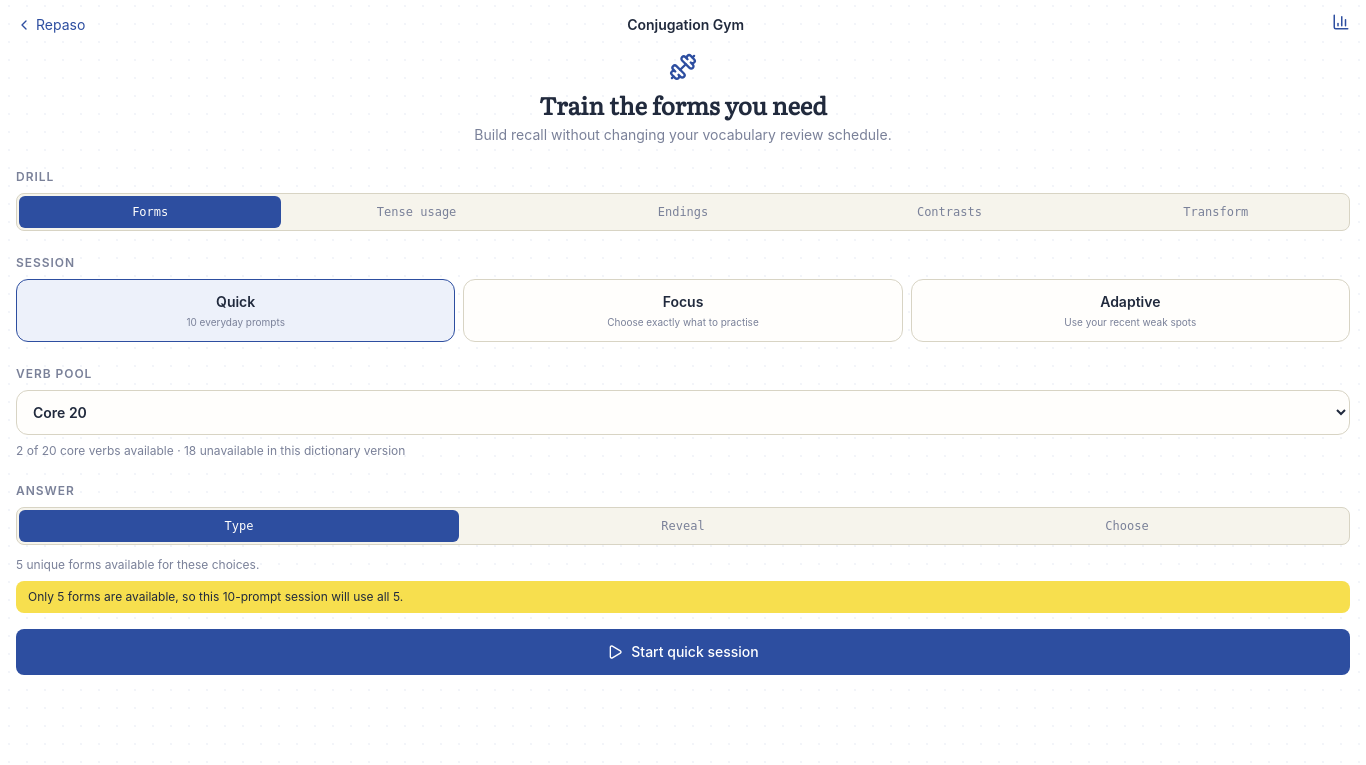
Scenario: Conjugation Gym setup › offers Choose beside Type and Reveal and starts a Quick session with four form chips
Click the radio button labelled "Choose" at (1127, 526), box x1=907 y1=510 x2=1347 y2=542
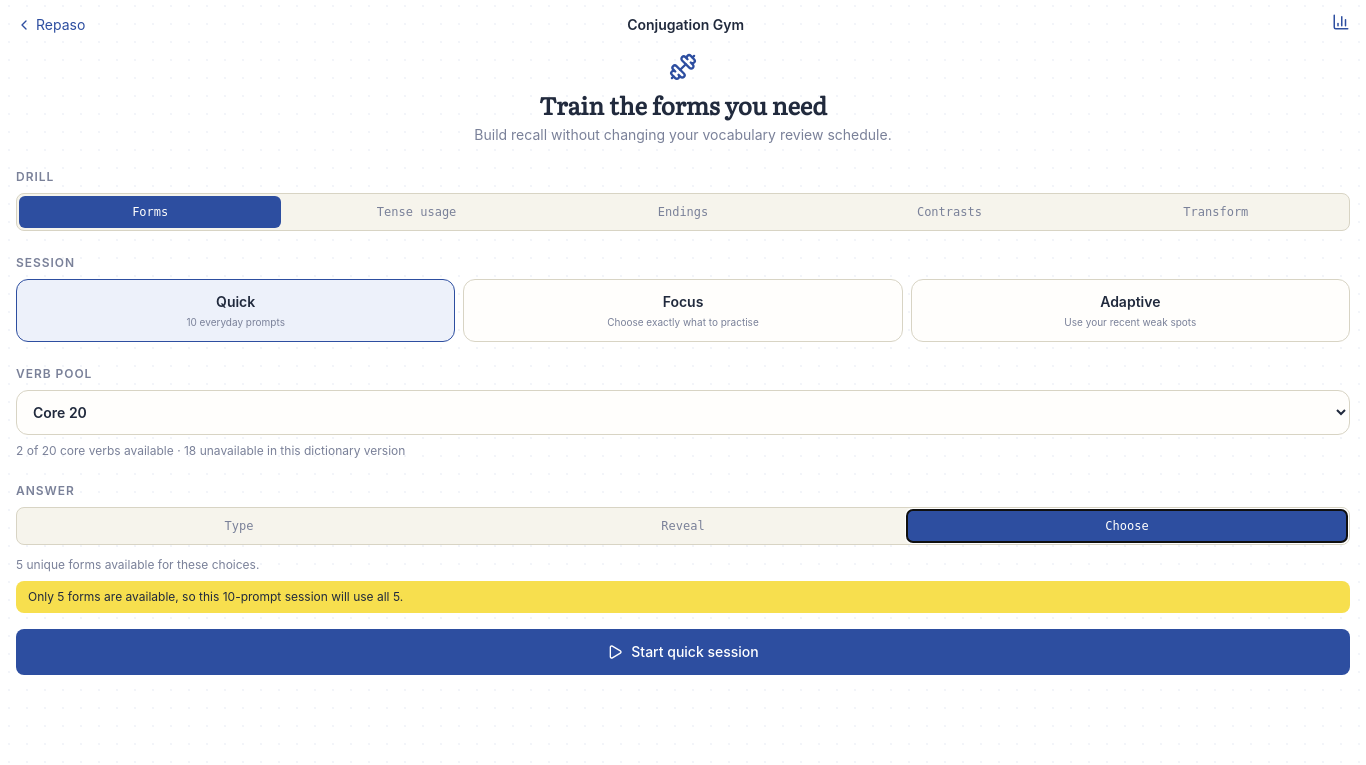
Result: the radio button labelled "Choose" is checked at x1=907 y1=510 x2=1347 y2=542
Select "Saved" in the dropdown named "Verb pool" at (683, 412), box x1=16 y1=390 x2=1350 y2=434
(page scrolled)
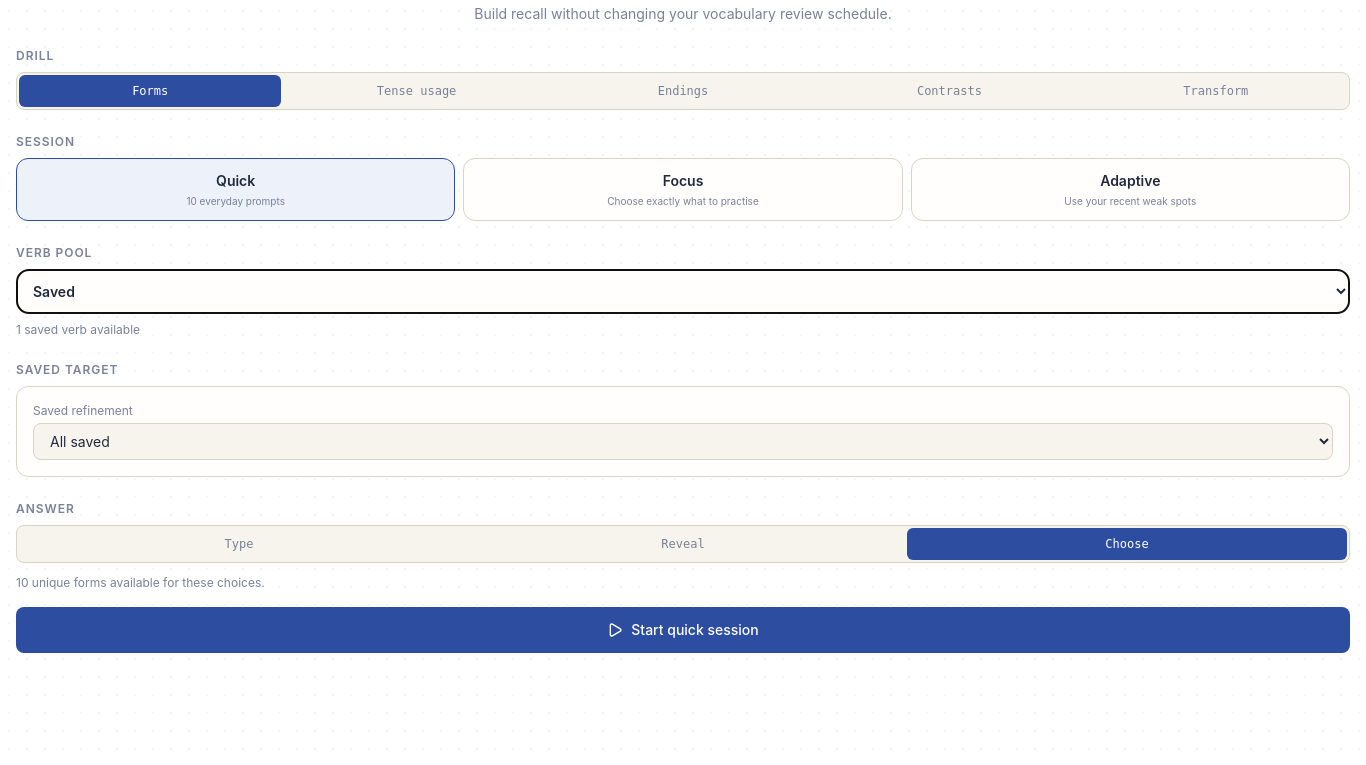
Click the button "Start quick session" at (683, 630), box x1=16 y1=606 x2=1350 y2=652
(page scrolled)
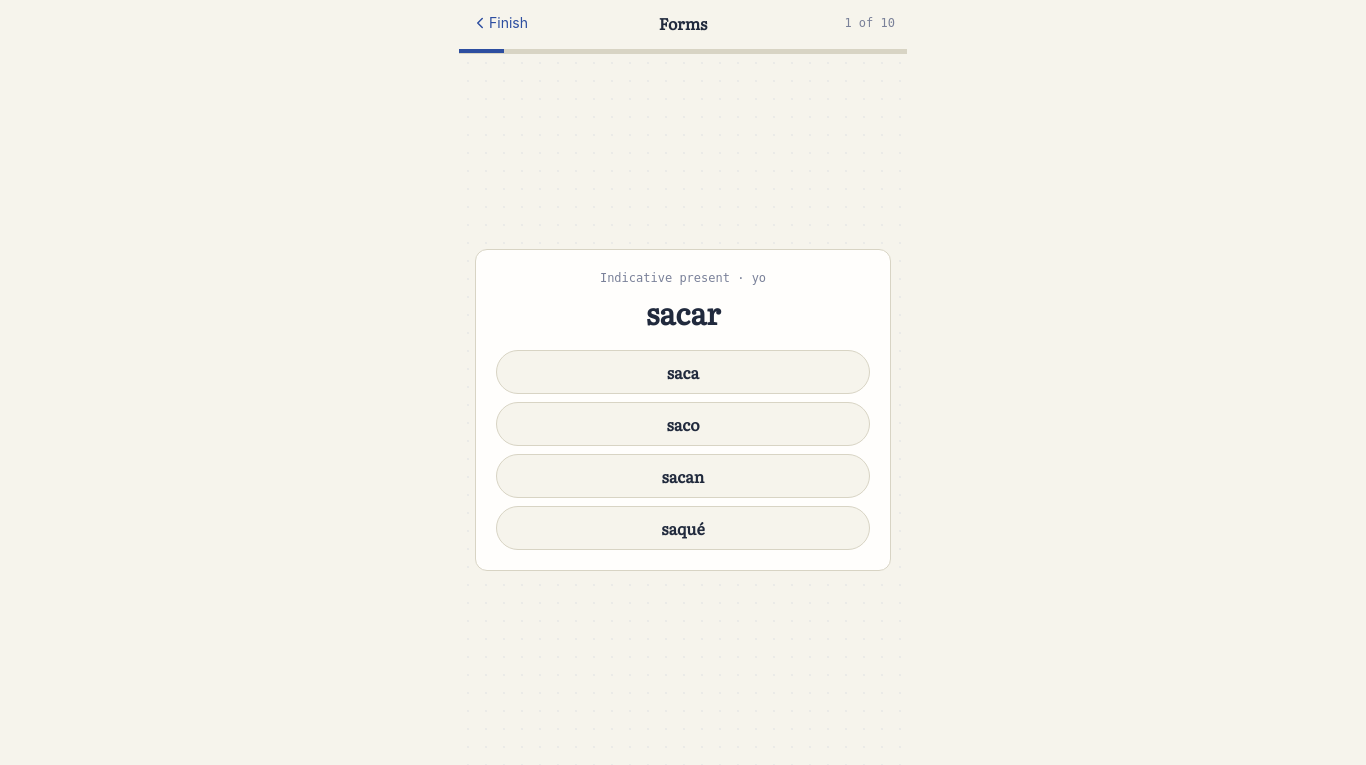
Result: the element named "Form choices" is shown at x1=496 y1=350 x2=870 y2=550
